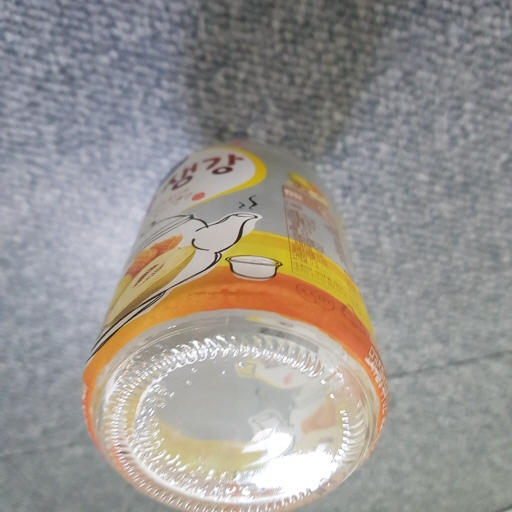Glass_4: (70, 137, 393, 512)
